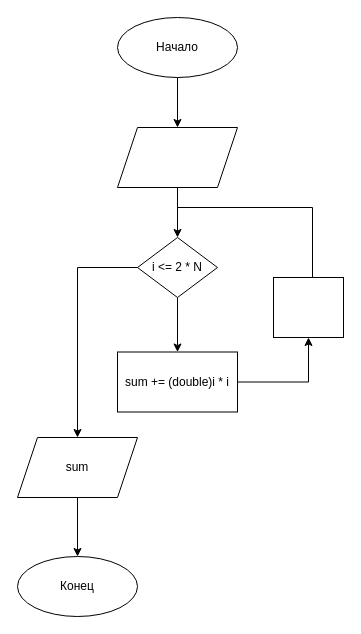
The diagram is 361 pixels wide and 634 high, and some of its shapes have lost their labels. Here are the shapes that lost their labels. From the top down, the centre of each, then its label:
(x=177, y=157): int N double sum = 0
(x=308, y=307): i++
